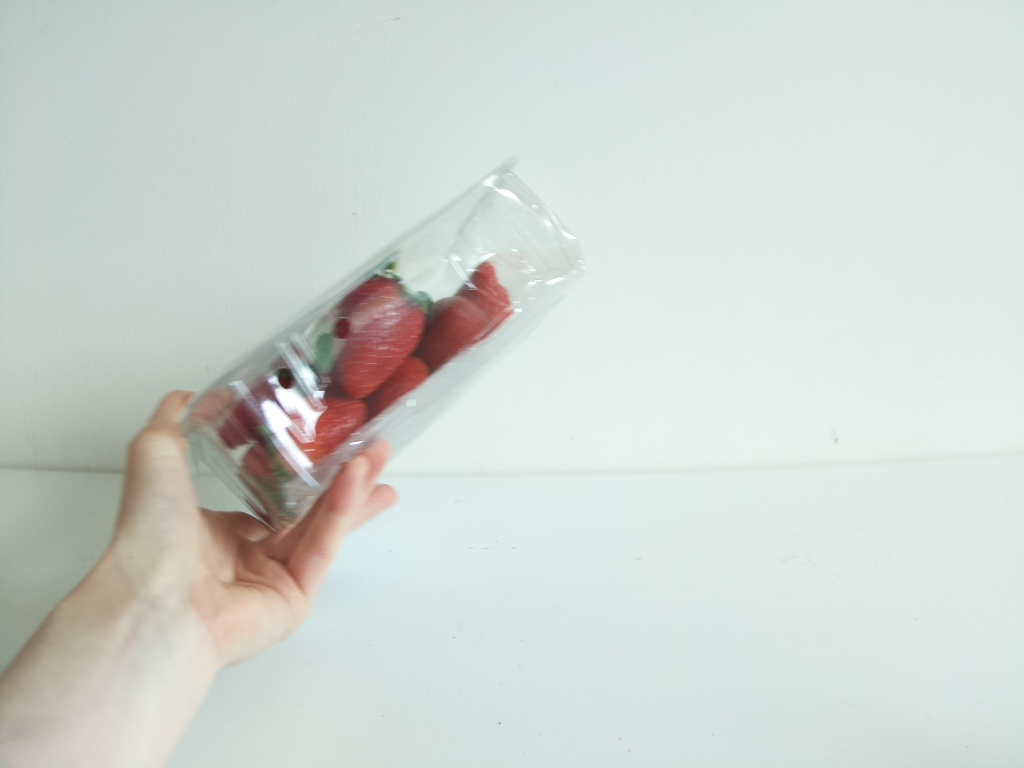soft-fruit: (175, 149, 582, 535)
